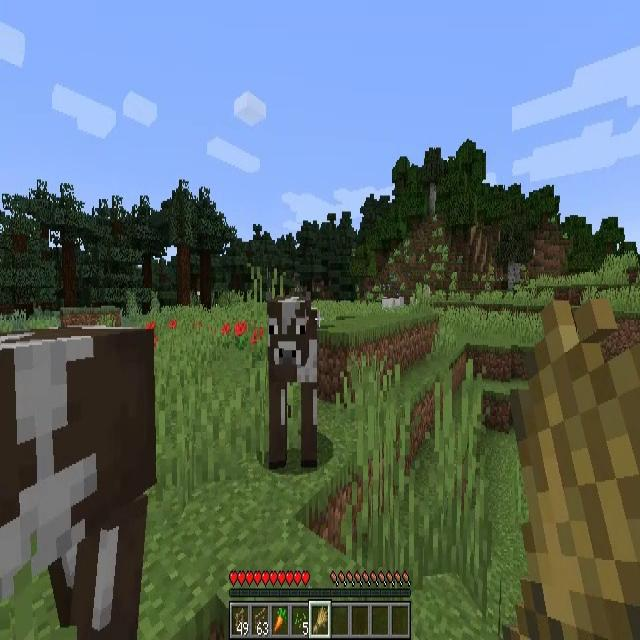cow: (0, 328, 155, 640), (265, 298, 317, 470)
sheep: (382, 298, 395, 310), (395, 296, 404, 306)
